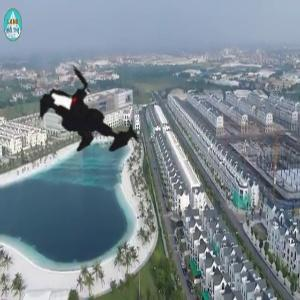drone: (13, 33, 173, 193)
